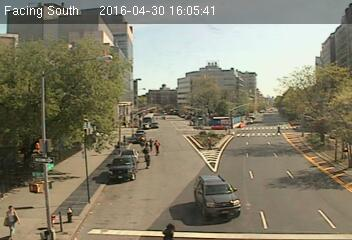neg: (222, 125, 243, 153), (194, 150, 214, 176), (223, 36, 241, 60), (82, 60, 99, 83), (303, 54, 319, 76), (98, 192, 114, 212), (188, 37, 203, 58), (74, 138, 89, 158), (269, 46, 284, 66), (304, 93, 319, 113), (279, 154, 294, 174), (299, 172, 314, 192), (145, 45, 158, 63), (235, 178, 248, 195), (267, 186, 278, 200), (174, 121, 184, 135), (306, 132, 316, 145), (306, 14, 315, 27), (161, 190, 168, 200)
pos: (138, 149, 156, 172), (163, 217, 179, 239), (271, 122, 285, 141), (150, 137, 162, 153), (147, 136, 156, 148)
